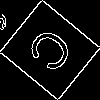C: (25, 24, 83, 81)
